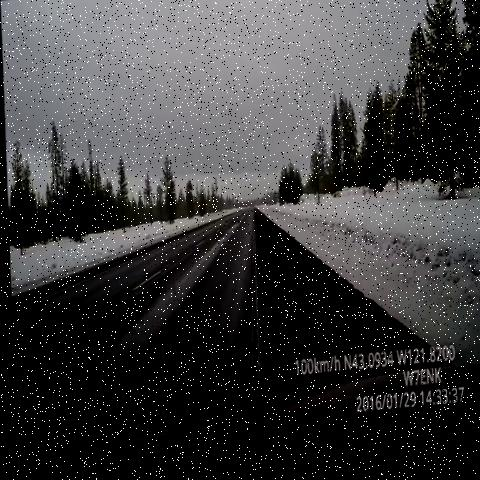pothole: (227, 216, 247, 237)
